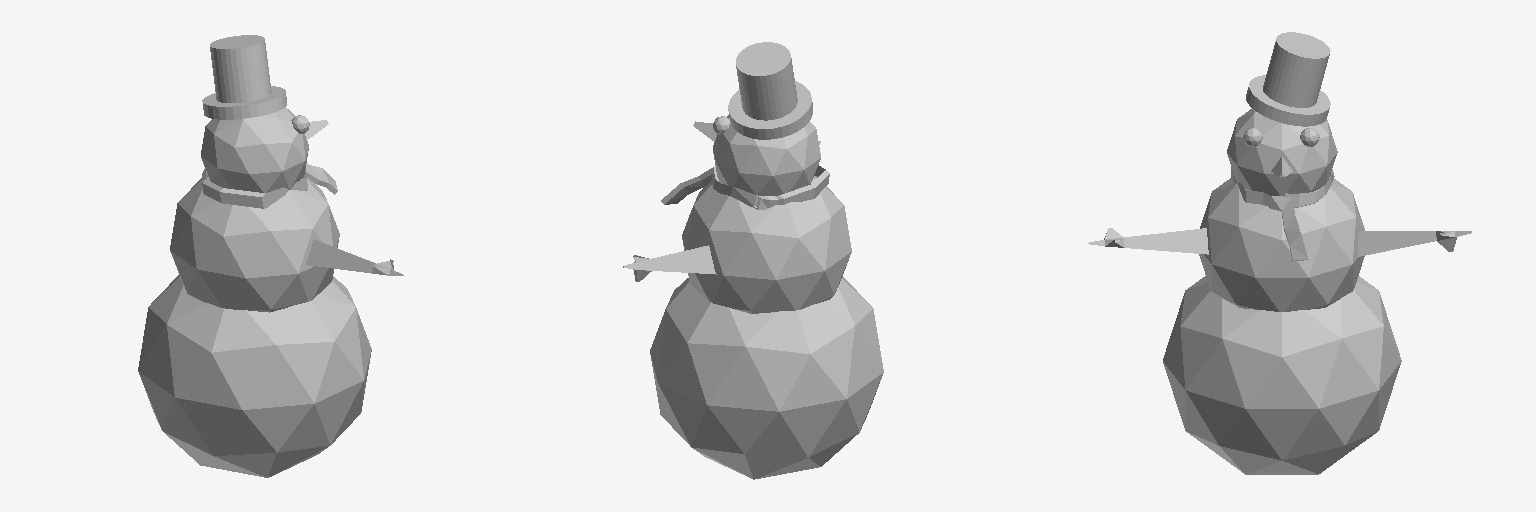
The model's file is Snowman.obj.
The picture shows the model from 3 angles: view 1: azimuth 30°, elevation 25°; view 2: azimuth 150°, elevation 25°; view 3: azimuth 270°, elevation 25°; orthographic projection.
Parts seen in each view (by area): view 1: Cube; view 2: Cube; view 3: Cube.
Boxes of the visible parts, box(x1,y1,x2,y2) form: Cube: box(138, 35, 403, 477); Cube: box(623, 42, 883, 479); Cube: box(1088, 32, 1471, 474).
Size of the model in its own units: 2.51 by 5.18 by 4.23.